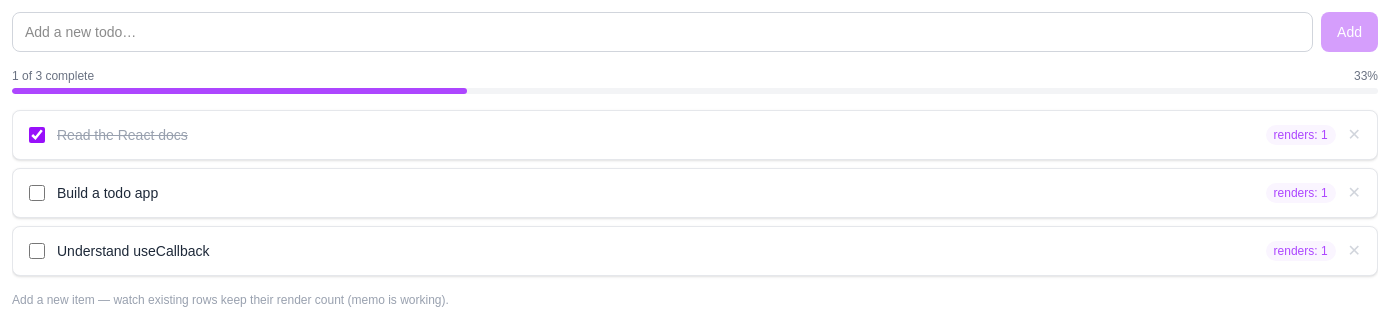
Test: TodoList — deleting › shows the empty state message when all todos are deleted
This screenshot has width=1390, height=324.
Click the button named "Delete" at point(1354, 135), box [1348,123,1361,147]
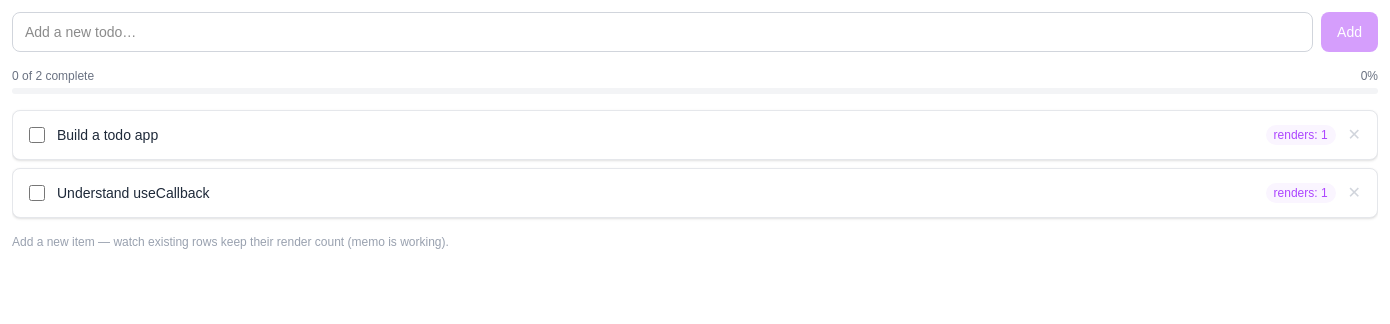
Click the button named "Delete" at point(1354, 135), box [1348,123,1361,147]
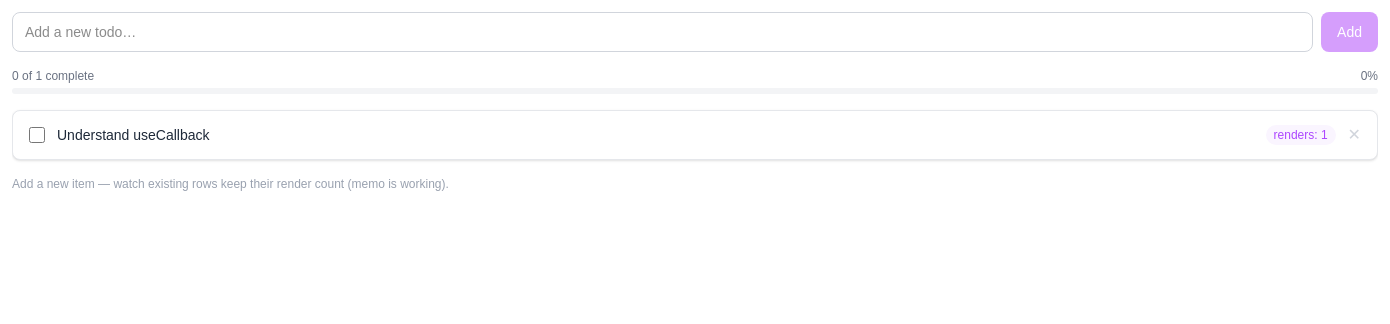
Click the button named "Delete" at point(1354, 135), box [1348,123,1361,147]
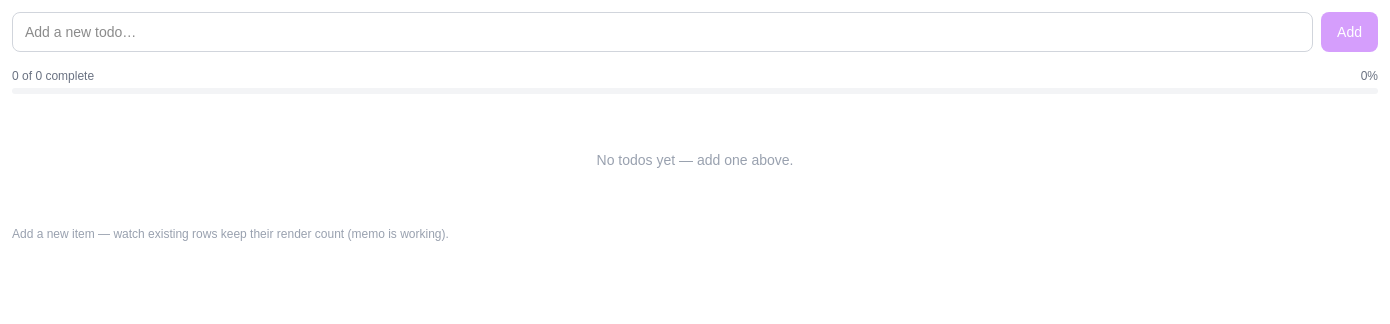
Result: the text "No todos yet — add one above." is shown at [596,152,793,168]
